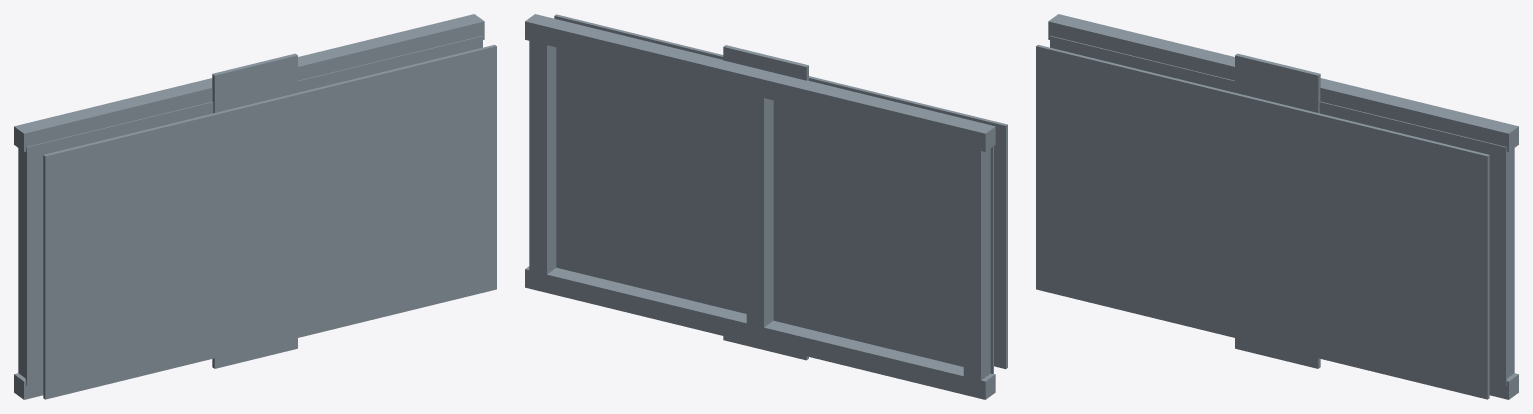
The model's file is A03_CHASSIS.glb.
3 renders of one model, left to right at view 1: azimuth 30°, elevation 25°; view 2: azimuth 150°, elevation 25°; view 3: azimuth 330°, elevation 25°, orthographic.
Visible parts, largest first — view 1: C04_6, C01_1, C03_5, C06_8, C02_2, C06_7, C01_0; view 2: C03_5, C01_1, C01_0, C02_2, C02_3, C02_4, C04_6, C06_8; view 3: C04_6, C01_1, C03_5, C06_8, C02_4, C06_7, C01_0.
Part boxes in pixels (x1,y1,x2,y2): C04_6: (43, 44, 496, 399); C01_1: (14, 14, 484, 151); C03_5: (25, 35, 482, 385); C06_8: (212, 53, 297, 113); C02_2: (18, 148, 25, 377); C06_7: (212, 338, 297, 368); C01_0: (14, 373, 43, 399); C03_5: (556, 47, 993, 373); C01_1: (525, 14, 995, 151); C01_0: (525, 266, 995, 399); C02_2: (963, 142, 990, 384); C02_3: (746, 89, 773, 331); C02_4: (529, 36, 556, 277); C04_6: (554, 14, 1007, 369); C06_8: (723, 45, 808, 80); C04_6: (1036, 44, 1489, 399); C01_1: (1048, 14, 1518, 151); C03_5: (1050, 35, 1507, 385); C06_8: (1235, 53, 1320, 113); C02_4: (1507, 148, 1514, 377); C06_7: (1235, 338, 1320, 368); C01_0: (1489, 373, 1518, 399).
Size of the model in its own units: 1050 by 639 by 106.
